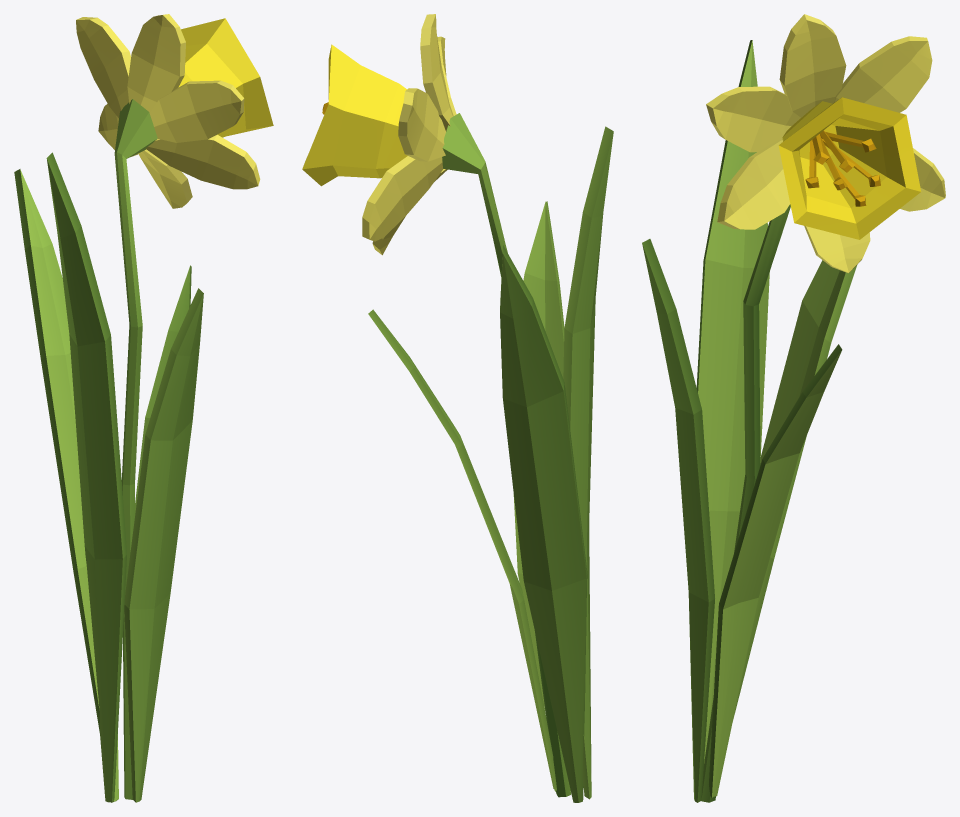
The model's file is flower.glb.
The picture shows the model from 3 angles, left to right: view 1: azimuth 30°, elevation 25°; view 2: azimuth 150°, elevation 25°; view 3: azimuth 270°, elevation 25°; orthographic projection. The views are drawn at different scales.
Parts seen in each view (by area): view 1: flower; view 2: flower; view 3: flower.
Boxes of the visible parts, x1=… form: flower: x1=14, y1=14, x2=273, y2=802; flower: x1=302, y1=14, x2=613, y2=802; flower: x1=642, y1=14, x2=945, y2=802.
Bounding box in the file's own units: 1.09 × 3.11 × 1.03.
Materials: 1 (1 with a texture image).
